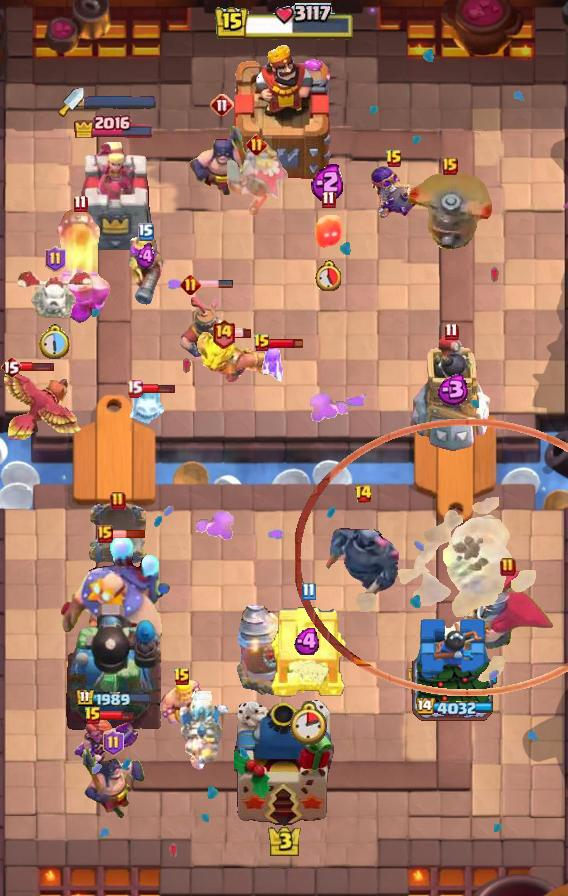archer: (159, 680, 205, 726)
bar: (73, 140, 155, 256)
bat: (123, 387, 167, 427)
bomb: (268, 604, 348, 698)
bomb-tower: (124, 234, 168, 306)
bomber: (313, 213, 343, 249)
clock: (213, 3, 355, 43)
dark-prince: (408, 168, 492, 256)
earthquake: (175, 288, 233, 370)
electro-spirit: (311, 162, 346, 202), (434, 375, 471, 406), (293, 629, 322, 656), (136, 242, 156, 269)
elixir: (289, 701, 327, 745), (40, 324, 73, 360), (315, 261, 341, 292)
emote: (268, 338, 304, 351), (99, 709, 135, 722), (140, 383, 176, 394), (20, 360, 55, 371), (198, 279, 234, 289), (110, 529, 146, 539), (232, 329, 251, 340)
furnace: (46, 205, 114, 325)
goblin: (261, 340, 285, 384)
goblin-ball: (369, 165, 419, 219)
goblin-hut: (195, 328, 279, 383)
golden-knight: (0, 368, 82, 440)
golemite: (325, 509, 401, 605)
king-tower: (230, 43, 338, 181), (234, 700, 334, 826)
king-tower-bar: (84, 95, 156, 109)
little-prince: (60, 534, 172, 658)
magic-archer: (236, 604, 296, 696)
mini-pekka: (176, 691, 232, 775), (14, 268, 96, 322)
monk: (188, 120, 256, 198), (79, 745, 147, 821)
mortar-evolution: (222, 143, 290, 217)
musketeer: (86, 500, 150, 566)
queen-tower: (409, 616, 497, 731)
royal-ghost: (296, 419, 568, 698)
selected: (73, 112, 155, 138), (75, 687, 153, 709), (414, 698, 494, 718)
tesla-evolution: (73, 714, 141, 774)
text: (211, 319, 236, 350), (210, 93, 234, 117), (46, 246, 67, 272), (103, 730, 124, 756), (0, 355, 22, 379), (179, 273, 201, 294), (245, 133, 266, 154), (354, 484, 374, 504), (385, 149, 403, 169), (253, 333, 271, 353), (173, 667, 191, 687), (84, 706, 102, 726), (125, 379, 142, 398), (110, 491, 126, 511), (500, 557, 516, 577), (442, 157, 458, 175), (138, 223, 154, 241), (97, 525, 113, 543), (445, 323, 460, 342), (300, 582, 315, 601), (321, 190, 335, 209), (73, 195, 87, 214)
tower-bar: (64, 601, 164, 731)
wall-breaker-evolution: (459, 569, 557, 651)
zappy: (408, 333, 494, 453)
